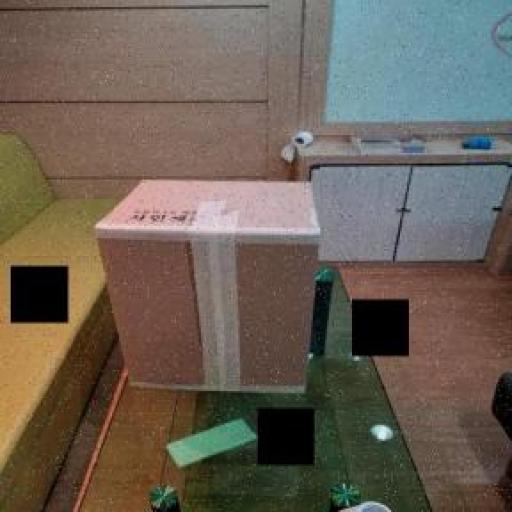box: (90, 172, 360, 412)
